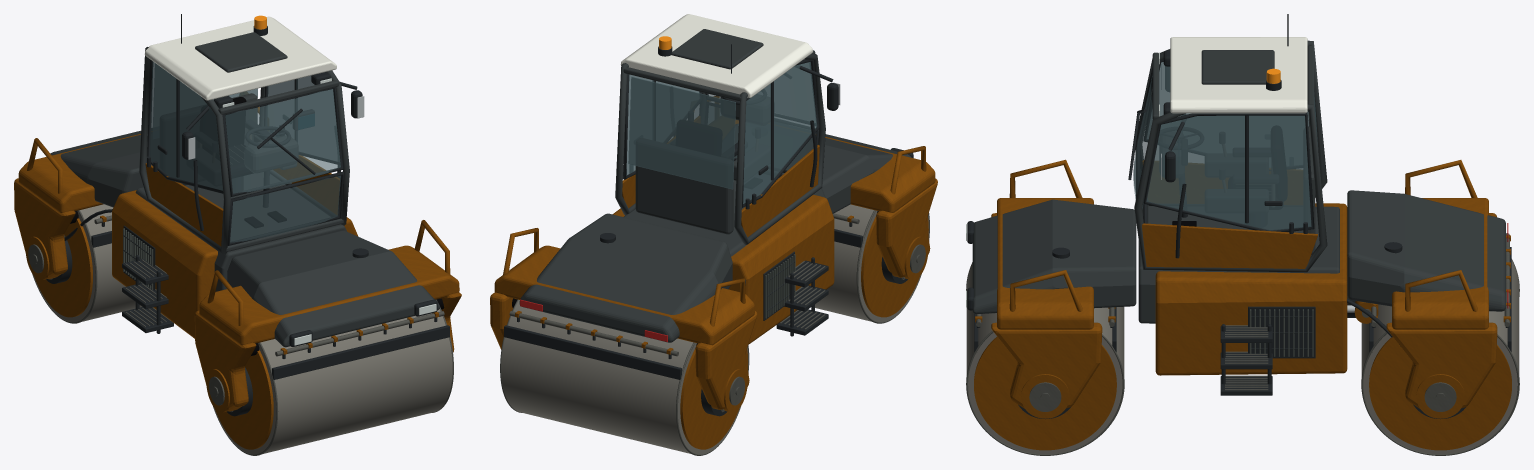
Rendered from roller.glb.
The picture shows the model from 3 angles, left to right: view 1: azimuth 30°, elevation 25°; view 2: azimuth 150°, elevation 25°; view 3: azimuth 270°, elevation 25°; orthographic projection. The views are drawn at different scales.
Parts seen in each view (by area): view 1: engine_cover, chassis, cab_glass, drum_front, cab_roof, cab_frame, operator, drum_rear; view 2: engine_cover, drum_rear, chassis, cab_glass, operator, cab_roof, cab_frame, drum_front; view 3: engine_cover, chassis, cab_glass, cab_frame, drum_rear, drum_front, cab_roof, operator.
Boxes of the visible parts, x1,y1,x2,y2 form: engine_cover: (27, 92, 450, 347); chassis: (14, 134, 461, 412); cab_glass: (147, 59, 343, 245); drum_front: (213, 299, 453, 455); cab_roof: (144, 14, 364, 159); cab_frame: (139, 47, 349, 254); operator: (160, 93, 314, 227); drum_rear: (32, 204, 142, 323); engine_cover: (503, 96, 926, 344); drum_rear: (500, 299, 749, 455); chassis: (490, 120, 937, 412); cab_glass: (623, 59, 819, 207); operator: (635, 89, 769, 234); cab_roof: (620, 14, 840, 110); cab_frame: (615, 50, 825, 244); drum_front: (815, 204, 929, 323); engine_cover: (966, 159, 1508, 375); chassis: (991, 198, 1497, 418); cab_glass: (1128, 59, 1318, 231); cab_frame: (1134, 40, 1327, 272); drum_rear: (1361, 233, 1519, 455); drum_front: (966, 262, 1124, 455); cab_roof: (1159, 14, 1307, 182); operator: (1158, 126, 1315, 254).
Size of the model in its own units: 2.38 by 3.41 by 4.57.
17 materials, 3 textured.
